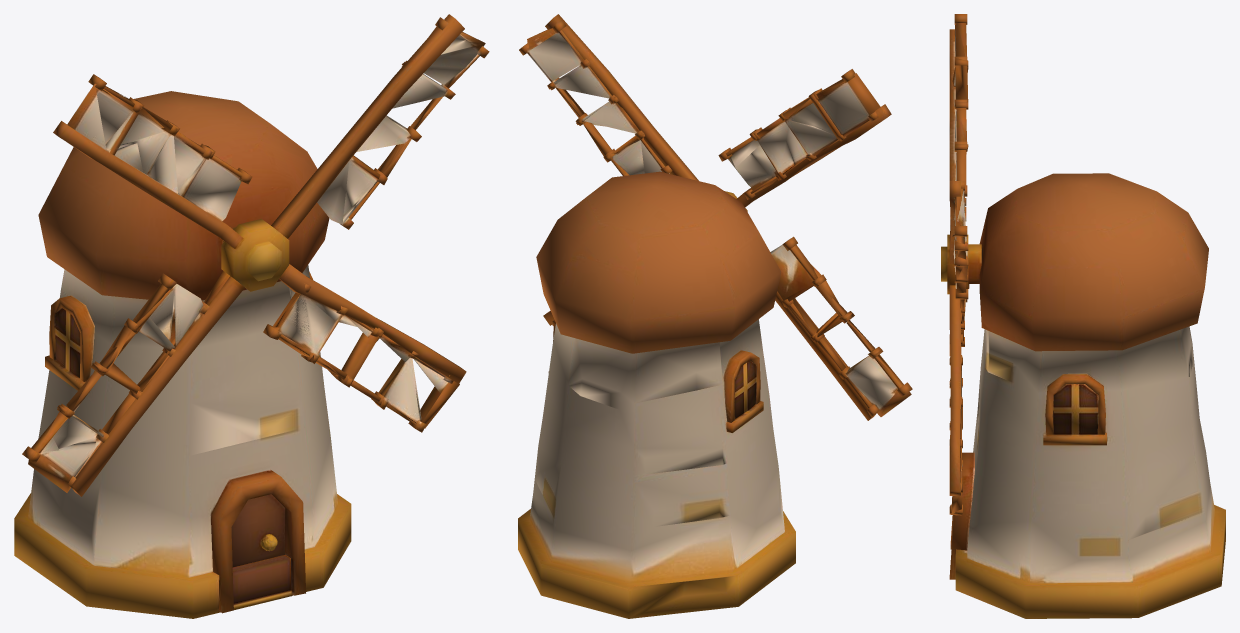
Rendered from moulin-1.glb.
3 views of the same model, side by side, from view 1: azimuth 30°, elevation 25°; view 2: azimuth 150°, elevation 25°; view 3: azimuth 270°, elevation 25° (orthographic). The views are drawn at different scales.
Parts seen in each view (by area): view 1: tripo_node_2acaa045-013c-45eb-b249-399f0453b7b6; view 2: tripo_node_2acaa045-013c-45eb-b249-399f0453b7b6; view 3: tripo_node_2acaa045-013c-45eb-b249-399f0453b7b6.
Part boxes in pixels (box(x1,y1,x2,y2)): tripo_node_2acaa045-013c-45eb-b249-399f0453b7b6: box(14, 14, 489, 618); tripo_node_2acaa045-013c-45eb-b249-399f0453b7b6: box(518, 14, 912, 618); tripo_node_2acaa045-013c-45eb-b249-399f0453b7b6: box(941, 14, 1225, 618).
Size of the model in its own units: 0.2566 by 0.3 by 0.1603.
1 material, 1 textured.
